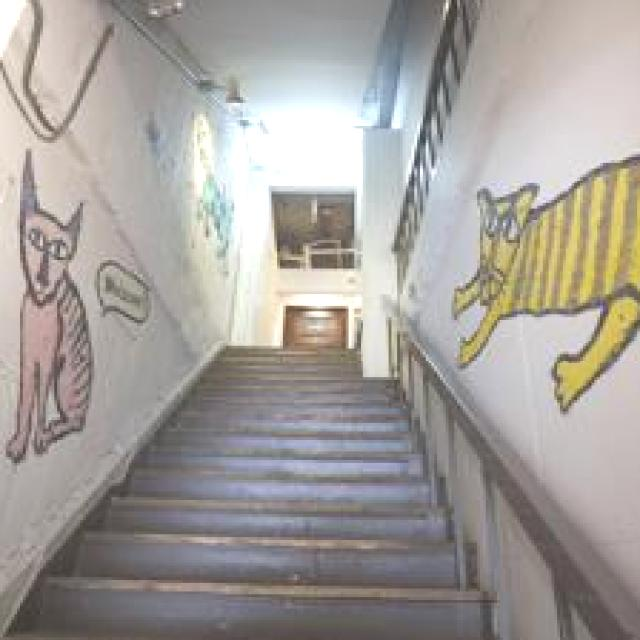upstair: (58, 438, 507, 633)
